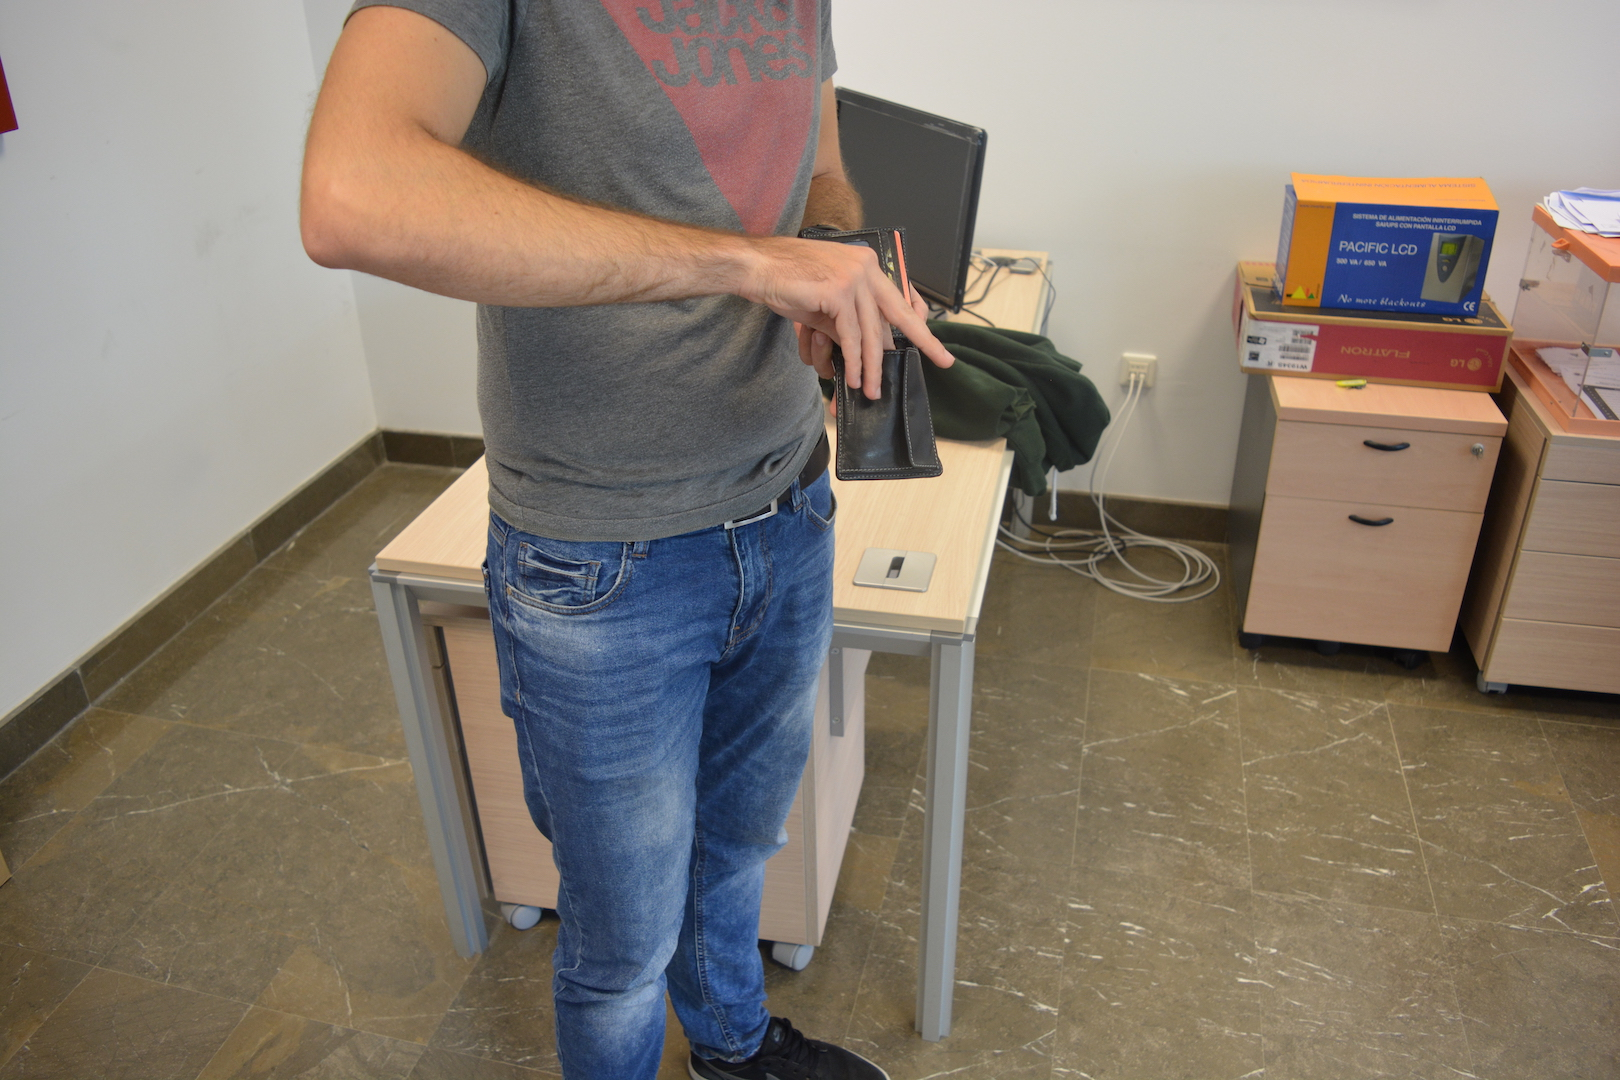monedero: (800, 224, 944, 481)
